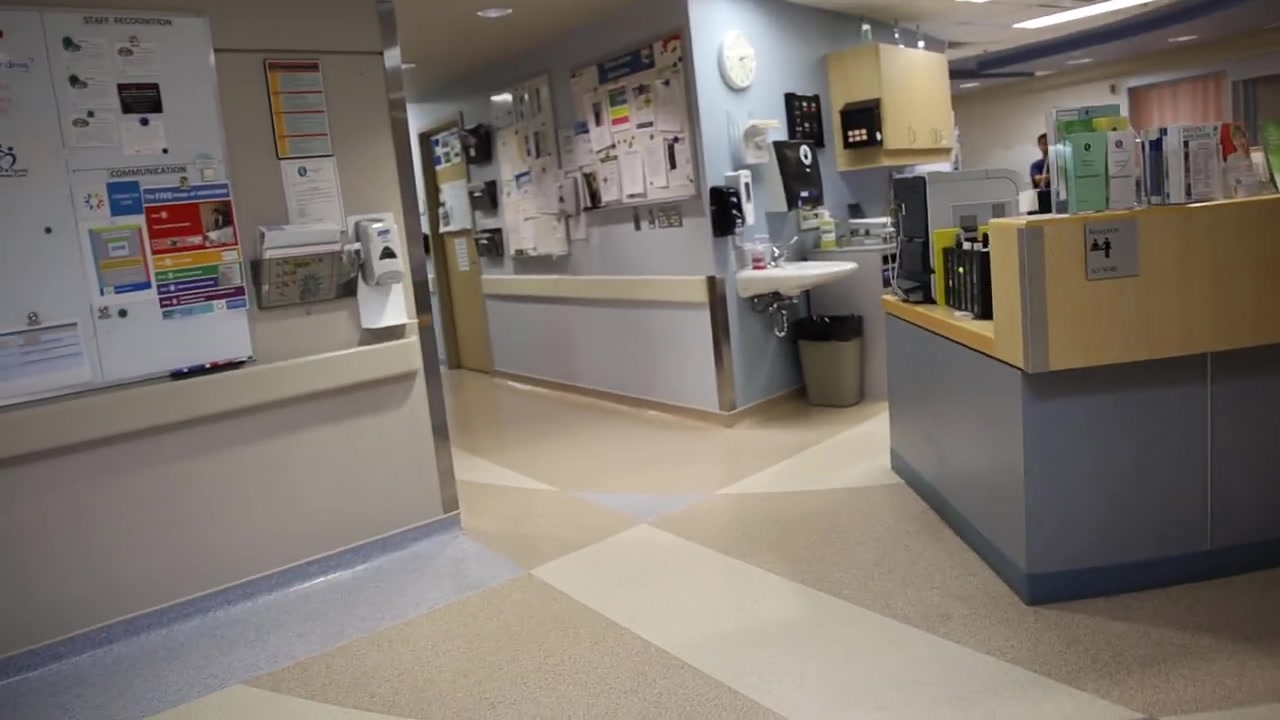cabinet: (825, 44, 951, 173)
counter: (885, 190, 1277, 613)
countertop: (986, 191, 1280, 241)
dispenser: (343, 211, 414, 329), (754, 139, 825, 213), (726, 173, 759, 229), (708, 184, 738, 238), (555, 180, 575, 219), (817, 210, 836, 249), (749, 235, 769, 272)
faucet: (771, 235, 798, 264)
hallway_assist_bar: (1, 332, 426, 464), (476, 274, 722, 306)
handle: (930, 126, 941, 147), (908, 124, 918, 145)
sink: (734, 261, 859, 299)
staff: (1025, 131, 1057, 215)
waste_bin: (793, 313, 876, 414)
